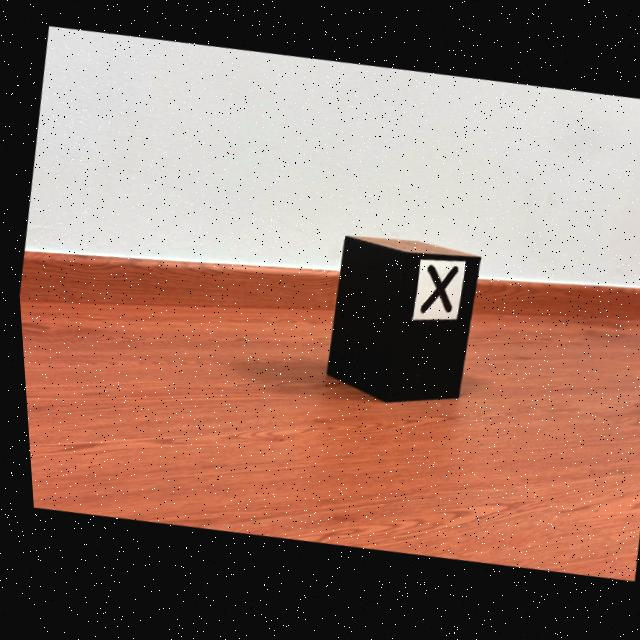X: (416, 270, 453, 317)
